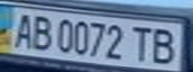0: (51, 16, 75, 54), (69, 18, 90, 56)
2: (103, 20, 130, 61)
7: (87, 19, 109, 58)
A: (6, 10, 39, 49)
B: (148, 25, 184, 65), (27, 12, 54, 52)
T: (127, 24, 157, 63)
